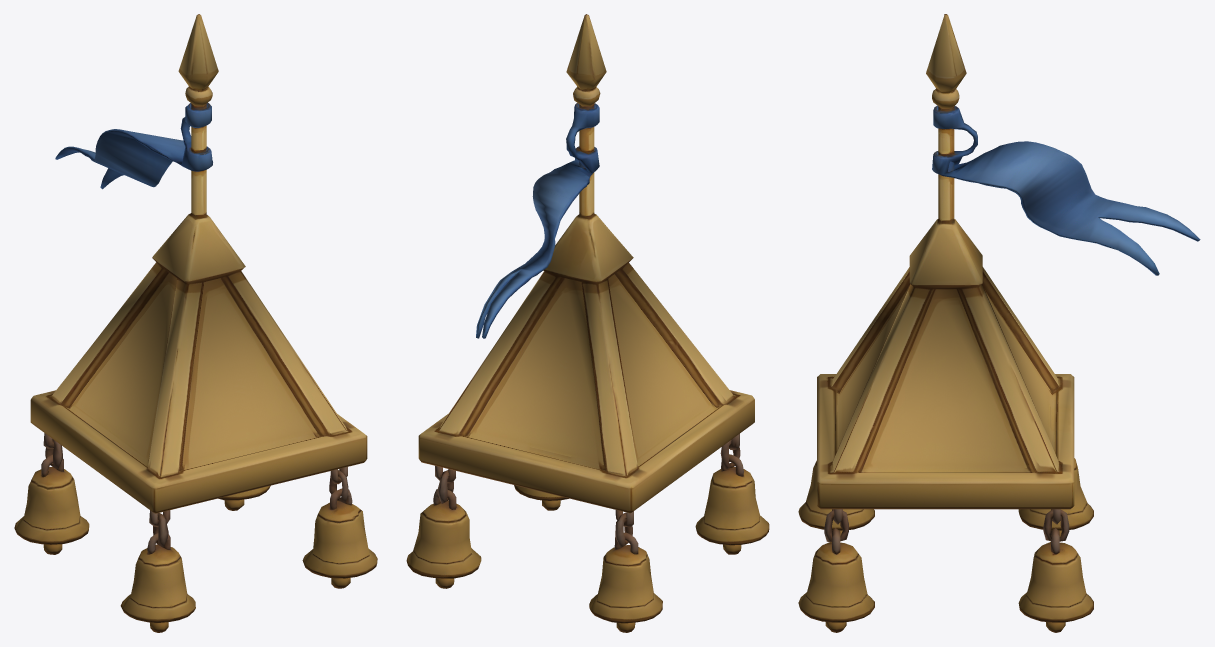
File: addon_spire_tripo.glb
The picture shows the model from 3 angles, left to right: view 1: azimuth 30°, elevation 25°; view 2: azimuth 150°, elevation 25°; view 3: azimuth 270°, elevation 25°; orthographic projection. The views are drawn at different scales.
Visible parts, largest first — view 1: tripo_node_74fe94c9-e21b-40d8-916f-d41137cb2ab8; view 2: tripo_node_74fe94c9-e21b-40d8-916f-d41137cb2ab8; view 3: tripo_node_74fe94c9-e21b-40d8-916f-d41137cb2ab8.
Part boxes in pixels (x1,y1,x2,y2): tripo_node_74fe94c9-e21b-40d8-916f-d41137cb2ab8: [14, 14, 377, 632]; tripo_node_74fe94c9-e21b-40d8-916f-d41137cb2ab8: [406, 14, 769, 632]; tripo_node_74fe94c9-e21b-40d8-916f-d41137cb2ab8: [798, 14, 1200, 632].
Bounding box in the file's own units: 0.4629 × 0.998 × 0.6348.
Materials: 1 (1 with a texture image).
